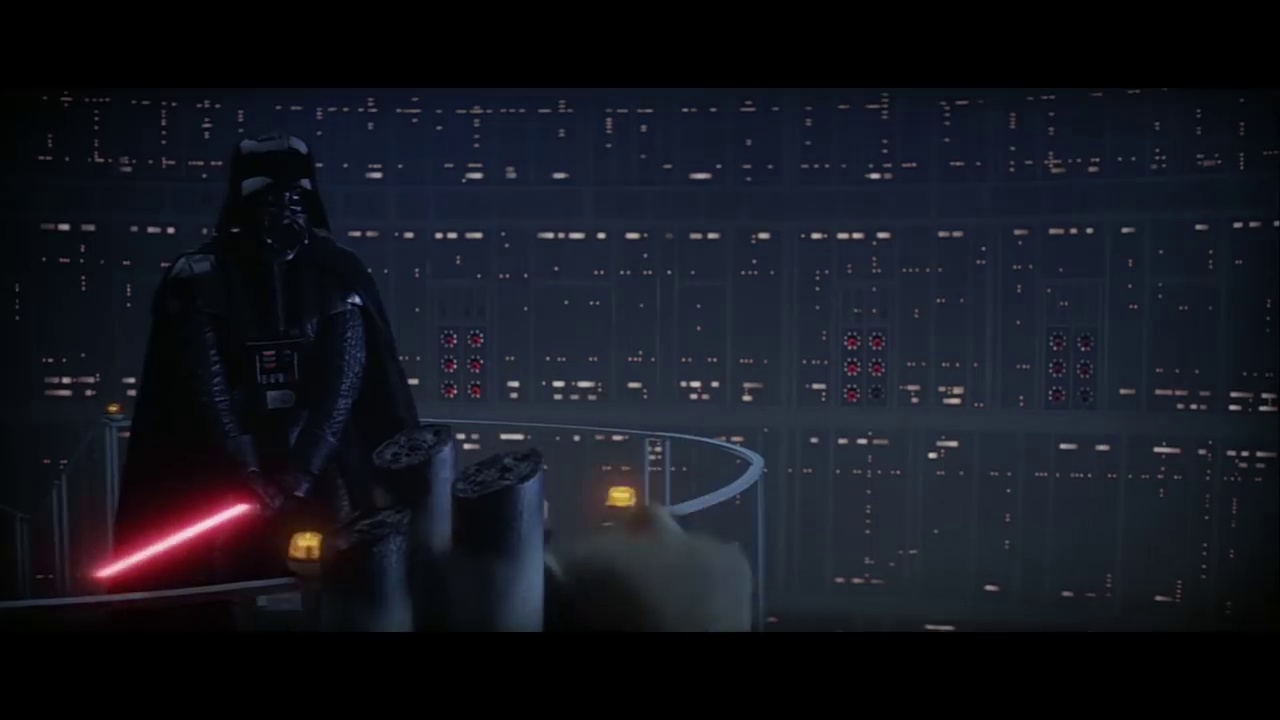lightsaber: (86, 480, 268, 585)
